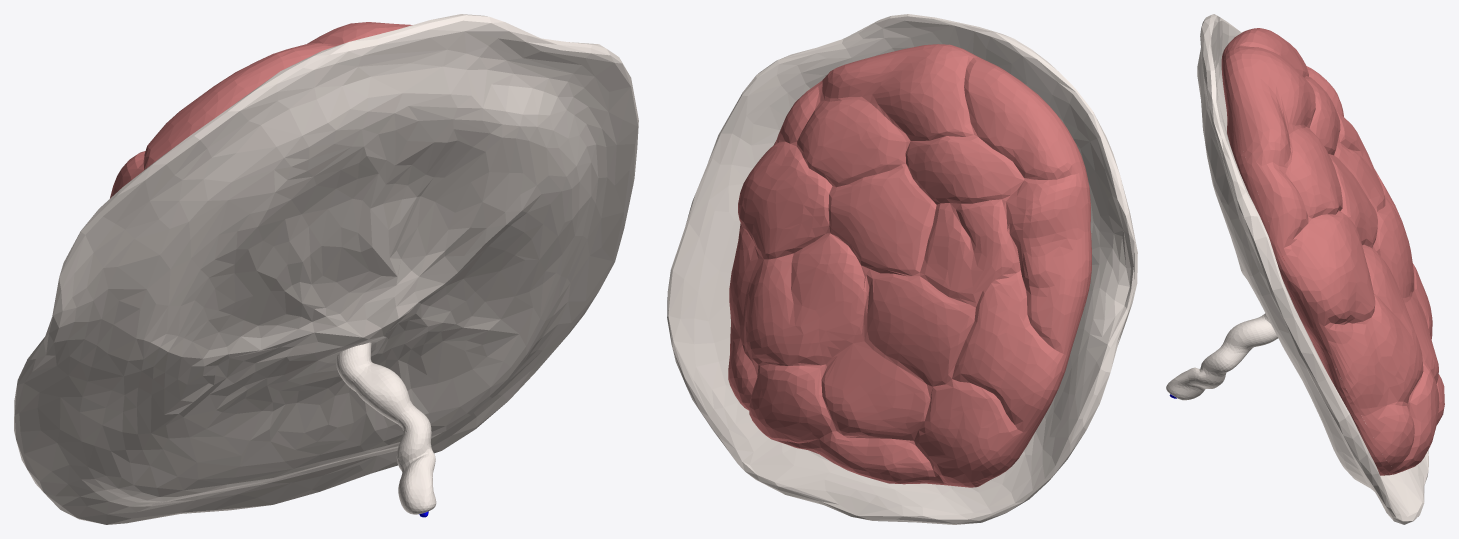
The model's file is VH_F_Placenta_0.2.glb.
3 renders of one model, left to right at view 1: azimuth 30°, elevation 25°; view 2: azimuth 150°, elevation 25°; view 3: azimuth 270°, elevation 25°, orthographic. The views are drawn at different scales.
Parts seen in each view (by area): view 1: VH_F_amnion, VH_F_umbilical_cord, VH_F_basal_plate; view 2: VH_F_basal_plate, VH_F_amnion; view 3: VH_F_basal_plate, VH_F_amnion, VH_F_chorionic_plate, VH_F_umbilical_cord.
Boxes of the visible parts, x1,y1,x2,y2 form: VH_F_amnion: (14, 14, 638, 524); VH_F_umbilical_cord: (336, 342, 436, 514); VH_F_basal_plate: (110, 22, 412, 198); VH_F_basal_plate: (728, 44, 1090, 487); VH_F_amnion: (667, 14, 1137, 524); VH_F_basal_plate: (1224, 28, 1444, 471); VH_F_amnion: (1197, 14, 1428, 524); VH_F_chorionic_plate: (1221, 46, 1401, 475); VH_F_umbilical_cord: (1166, 313, 1277, 400).
Size of the model in its own units: 0.2512 by 0.2307 by 0.1339.
